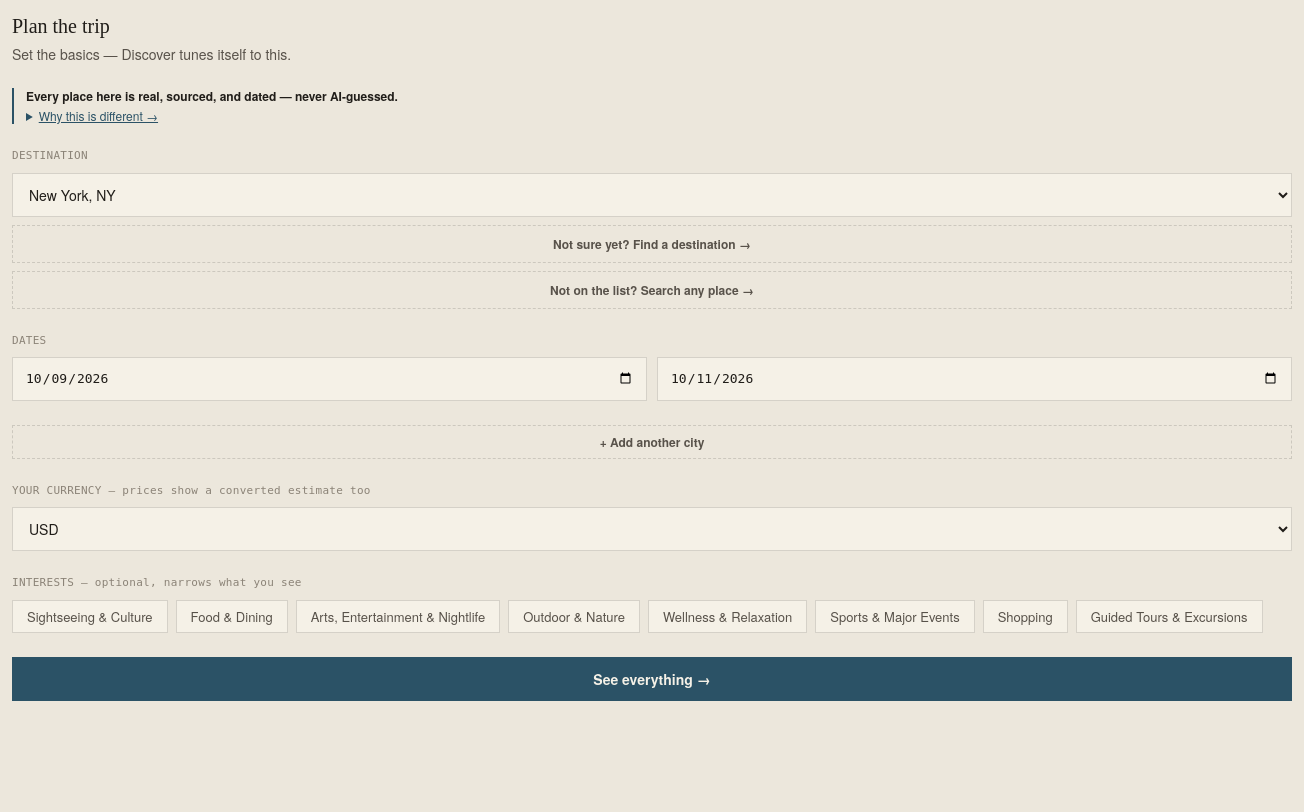
Test: SetupScreen › blocks submission and shows a real error when the end date is before the start date
The image size is (1304, 812).
Expected: the dropdown named "Destination" shows "New York, NY", [12,172,1292,216]
Type "2020-01-01" into the date field named "End date". click: (974, 379)
box: [657,357,1292,400]
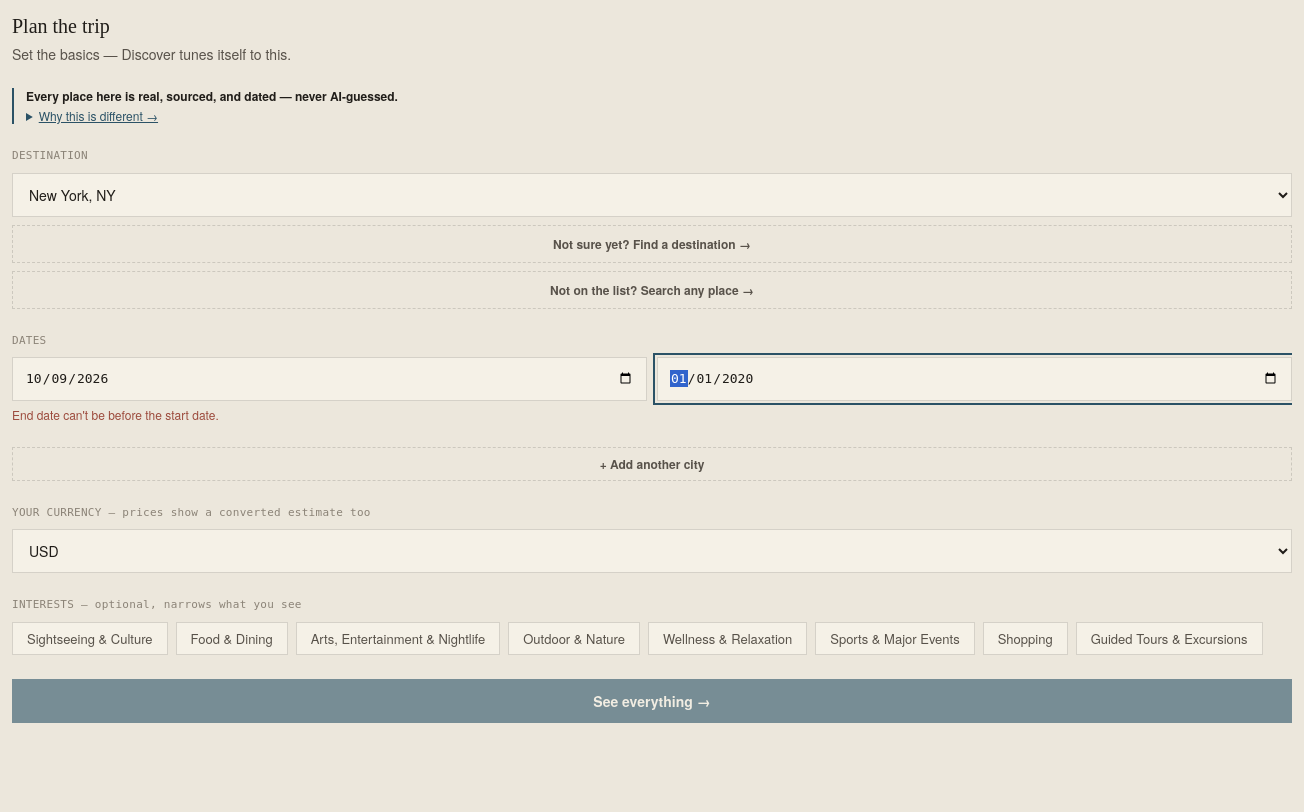
Expected: the message shows "End date can't be before", [12,406,219,422]
Expected: the button "See everything →" is disabled, [12,679,1292,723]
